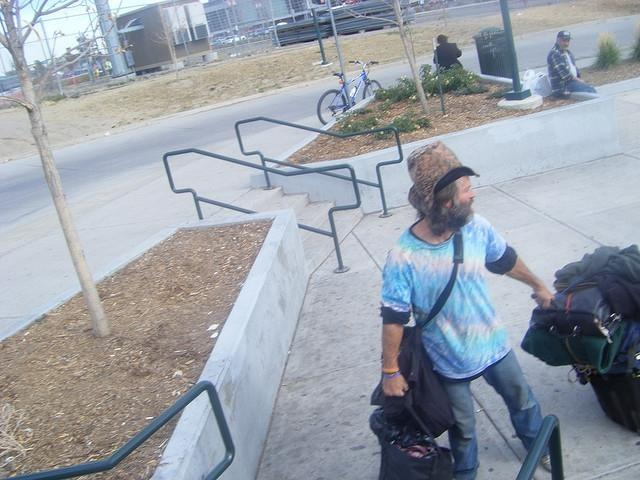bicycle: (318, 60, 382, 126)
car: (222, 35, 246, 44), (253, 29, 268, 36)
